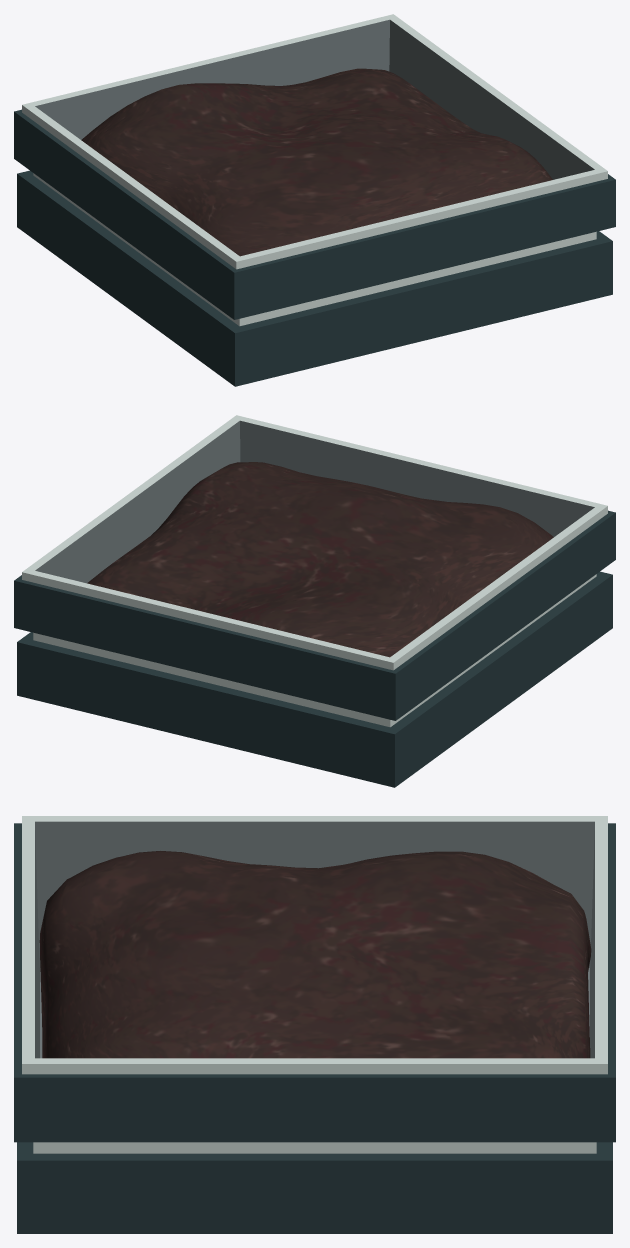
Rendered from PlantBox.fbx.
The picture shows the model from 3 angles, top to bottom: view 1: azimuth 30°, elevation 25°; view 2: azimuth 150°, elevation 25°; view 3: azimuth 270°, elevation 25°; orthographic projection. The views are drawn at different scales.
Parts seen in each view (by area): view 1: BaseSquare, Dirt; view 2: BaseSquare, Dirt; view 3: BaseSquare, Dirt.
Boxes of the visible parts, bbox=[...] form: BaseSquare: bbox=[14, 14, 615, 386]; Dirt: bbox=[81, 68, 552, 256]; BaseSquare: bbox=[14, 415, 615, 787]; Dirt: bbox=[87, 462, 553, 657]; BaseSquare: bbox=[14, 816, 615, 1233]; Dirt: bbox=[39, 851, 591, 1058].
Bounding box in the file's own units: 202 × 64.03 × 202.
